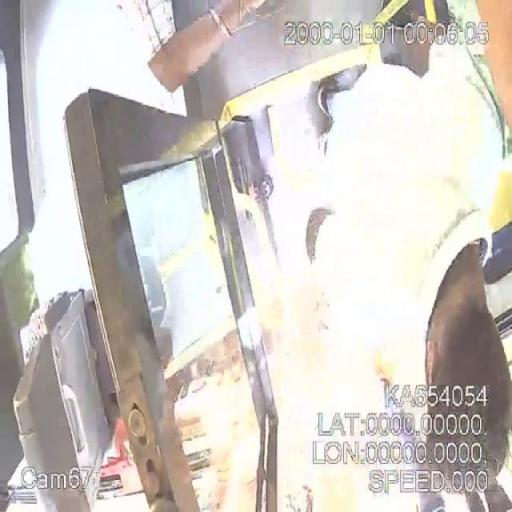persona: (302, 3, 510, 511)
